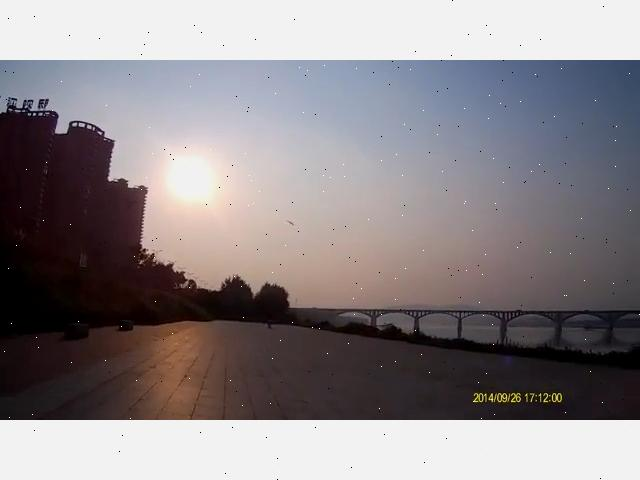Anti-Drone: (278, 212, 300, 232)
